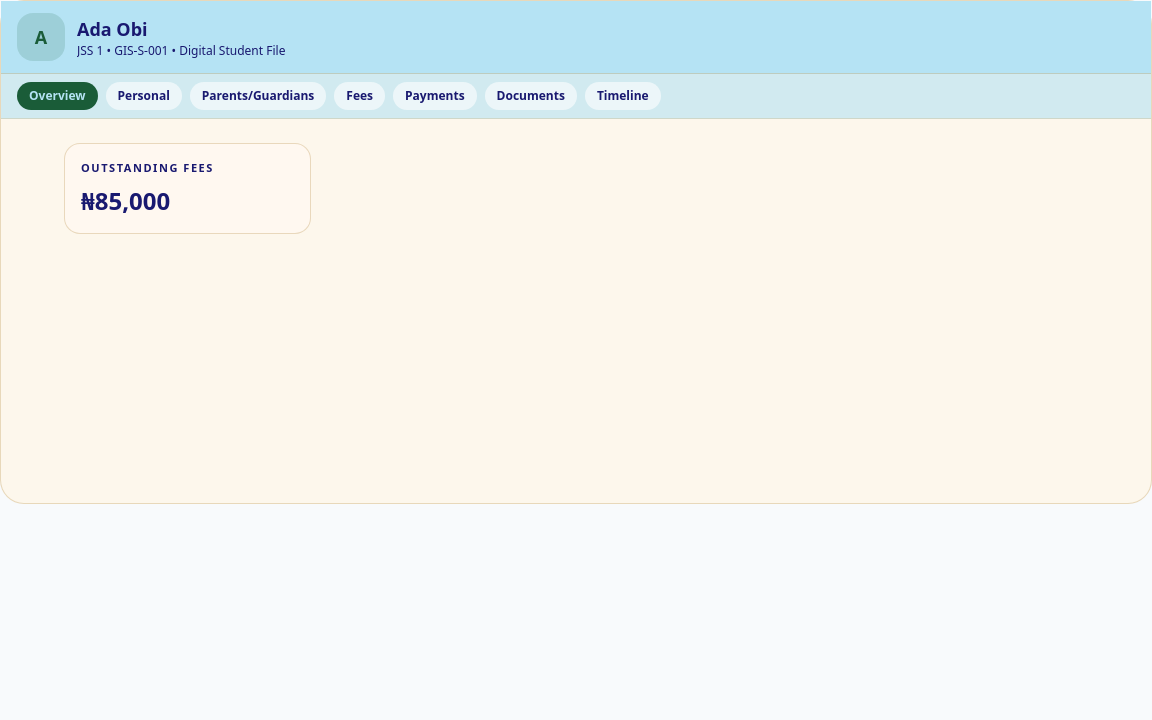
it: the accountant sees fees and a way to record a payment
The width and height of the screenshot is (1152, 720).
Expected: the text "₦85,000" is shown, [81,184,170,216]
What coordinates should you click on to do the following:
click the tab "Fees"
I would click on:
 (360, 96)
Its box is [334,82,385,110].
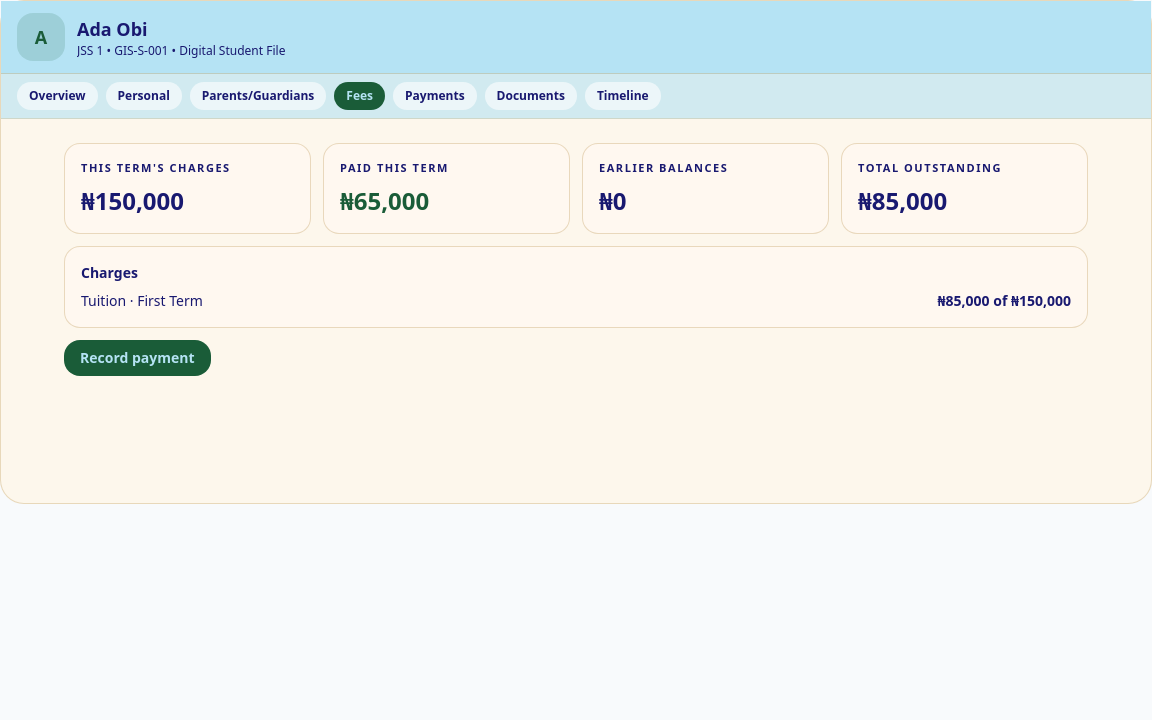
Result: the text "Tuition · First Term" is shown at [81,290,203,310]
